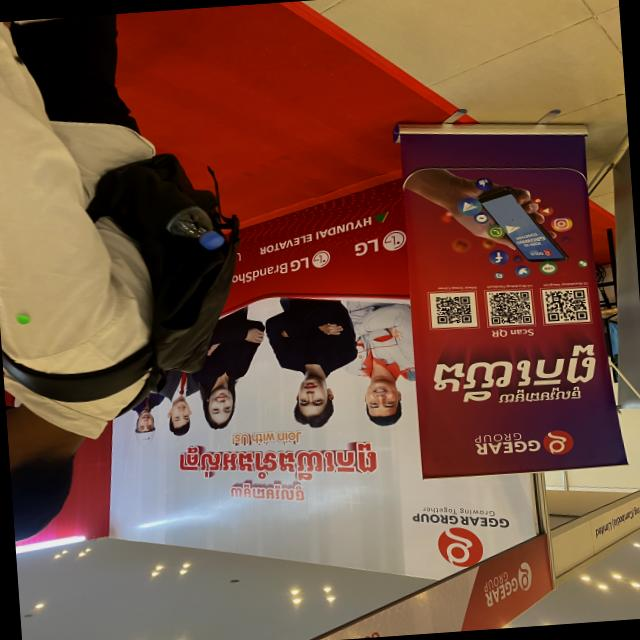Yolov11kh: (412, 338, 603, 408), (169, 438, 382, 480), (224, 479, 309, 503), (494, 387, 586, 407)
